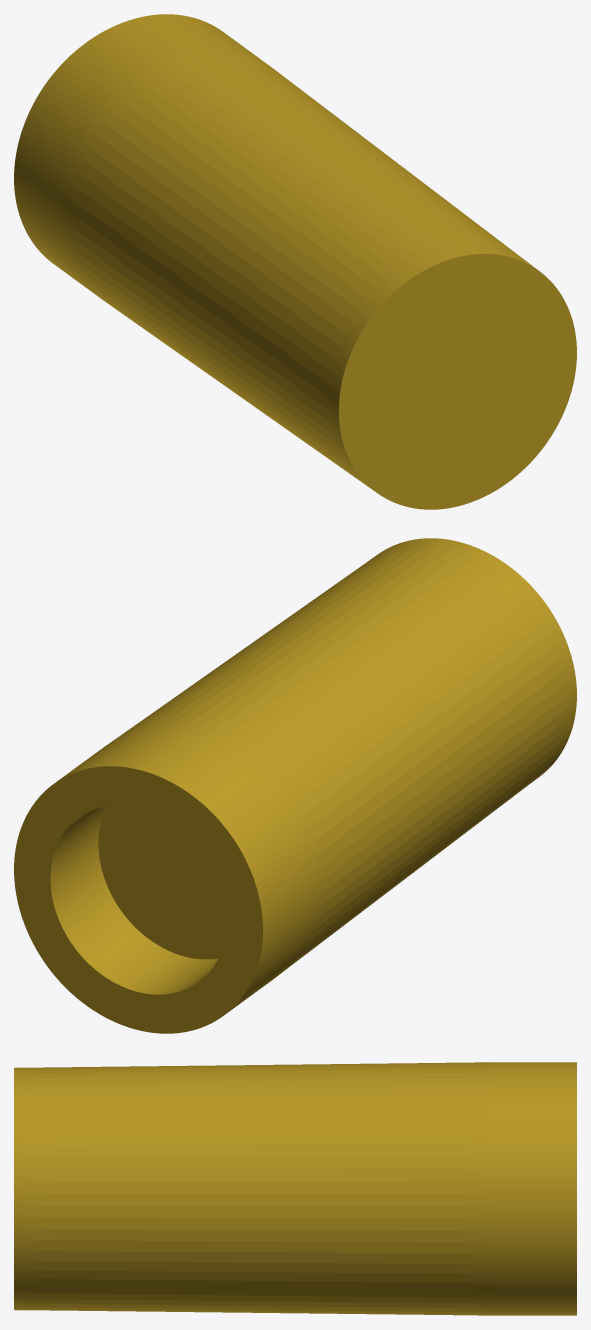
The picture shows the model from 3 angles, top to bottom: view 1: azimuth 30°, elevation 25°; view 2: azimuth 150°, elevation 25°; view 3: azimuth 270°, elevation 25°; orthographic projection. The views are drawn at different scales.
Parts seen in each view (by area): view 1: node; view 2: node; view 3: node.
Part boxes in pixels (x1,y1,x2,y2): node: [14, 14, 576, 509]; node: [14, 538, 576, 1033]; node: [14, 1062, 576, 1315].
Size of the model in its own units: 0.053 by 0.0529 by 0.1177.
